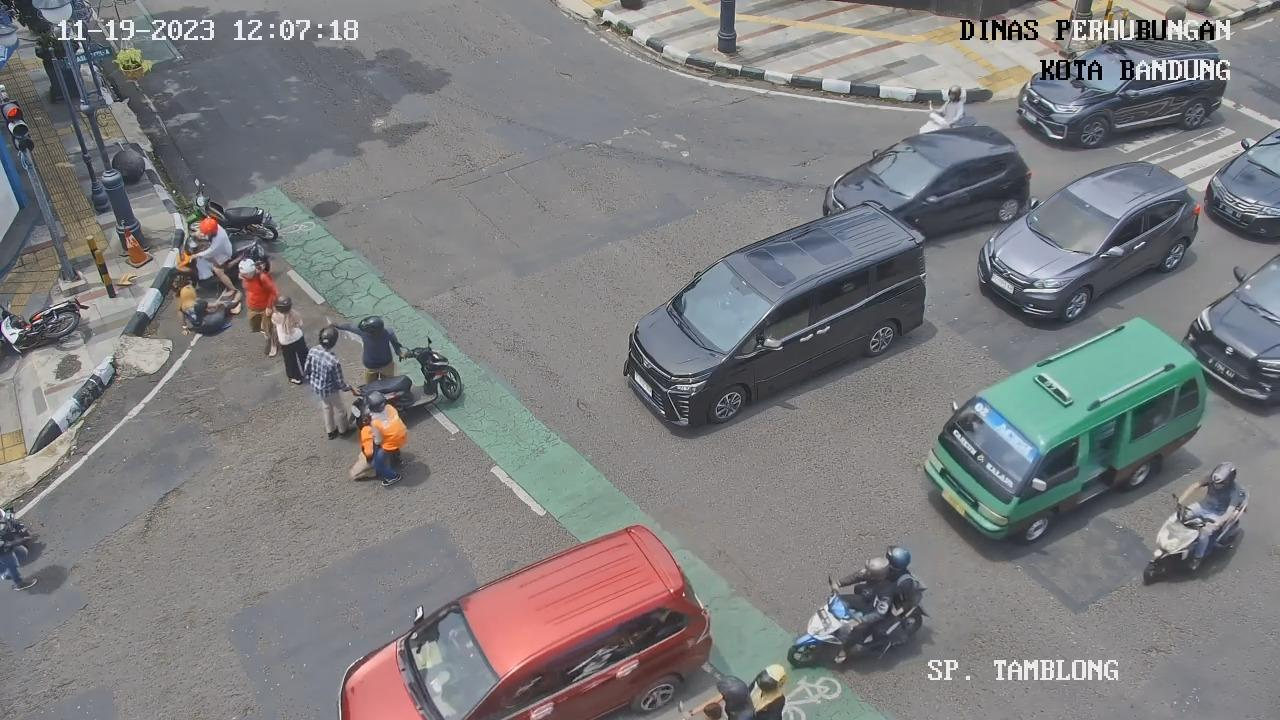accident: (170, 276, 244, 341)
